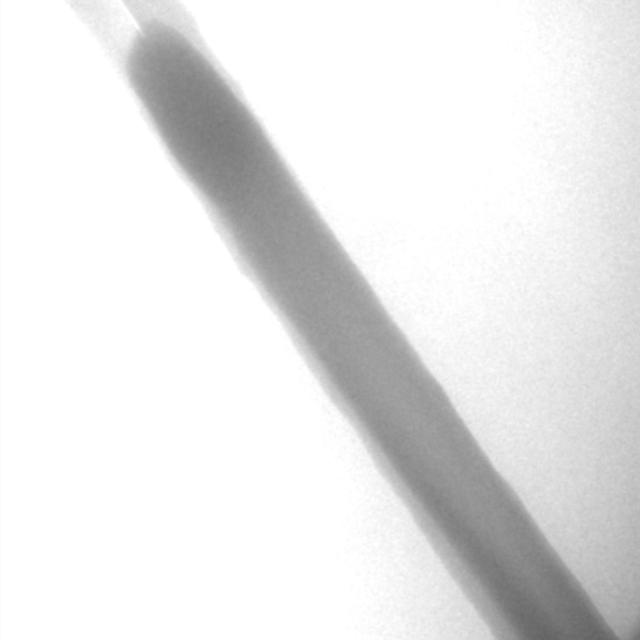broken arc: (120, 1, 139, 28)
